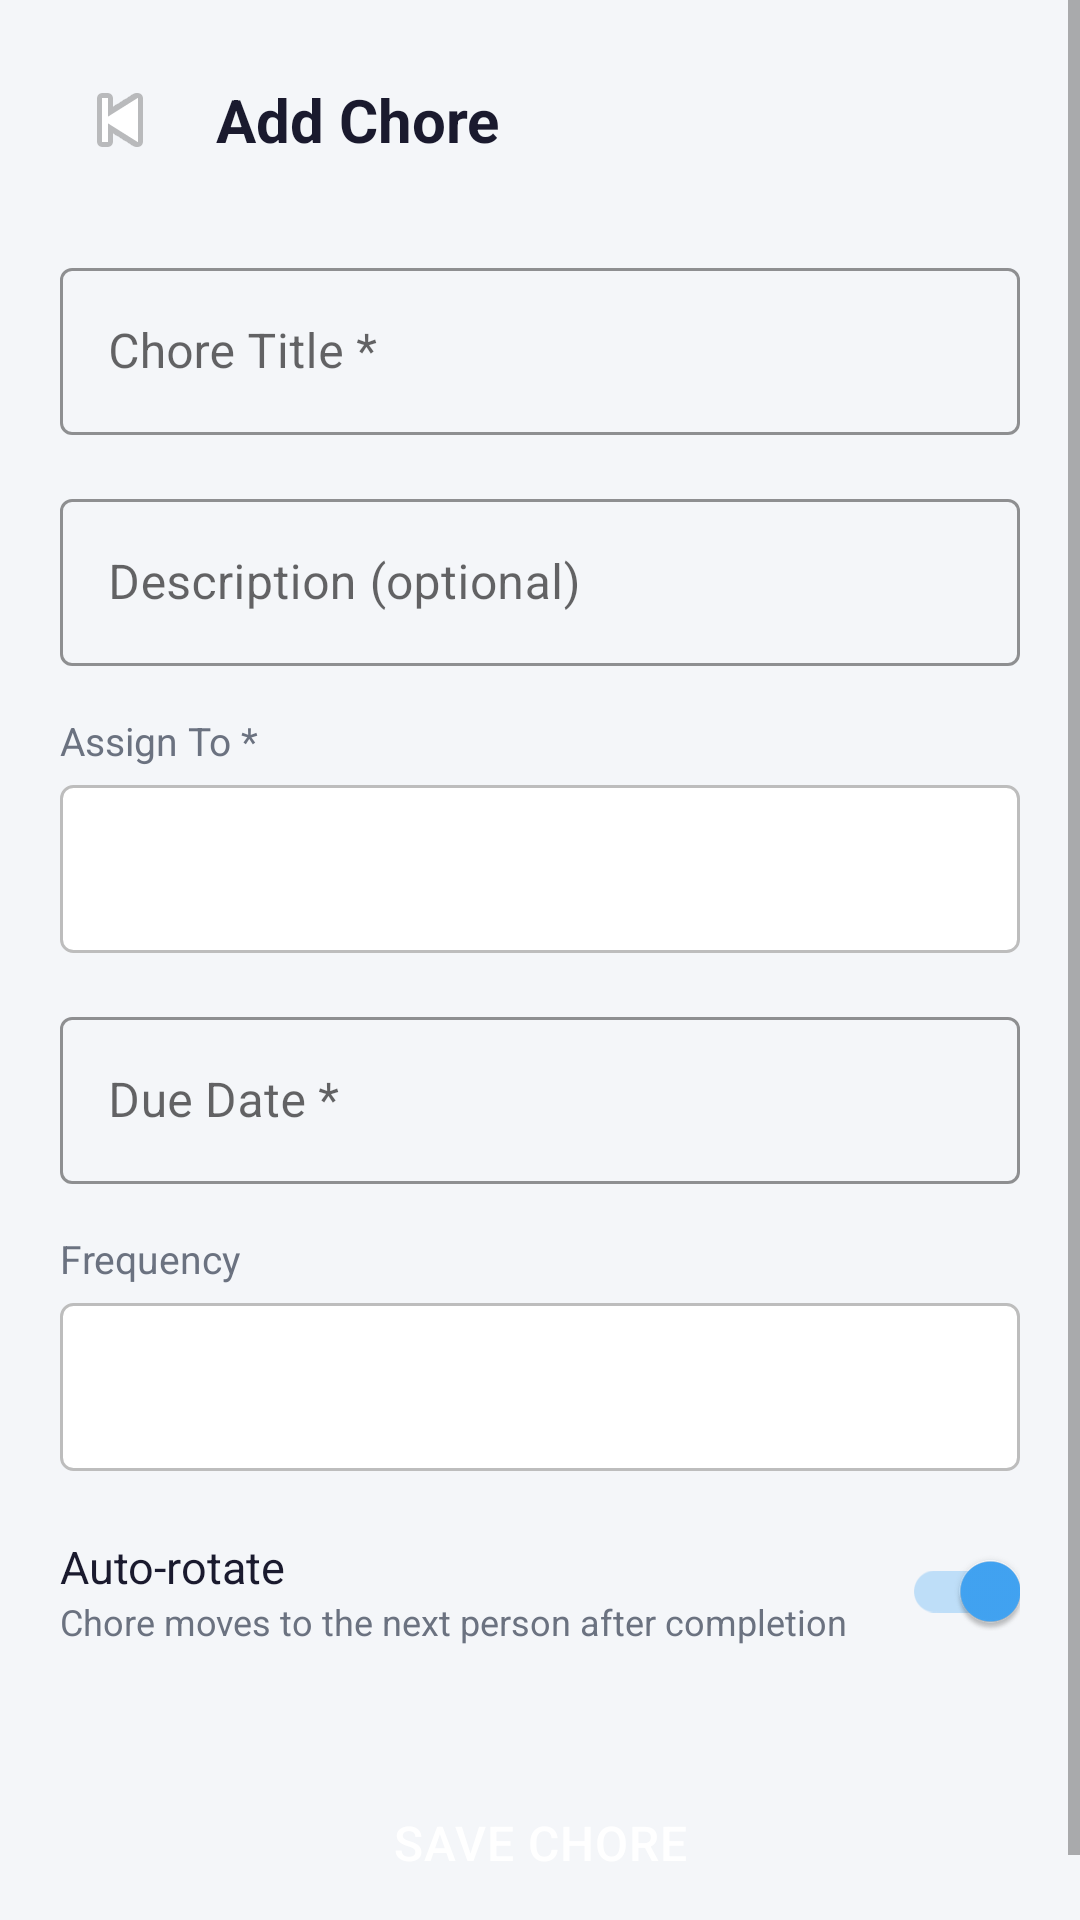

Named icons in this screenshot (1080x1920) and their centers, (x,y):
Back: (120,120)
